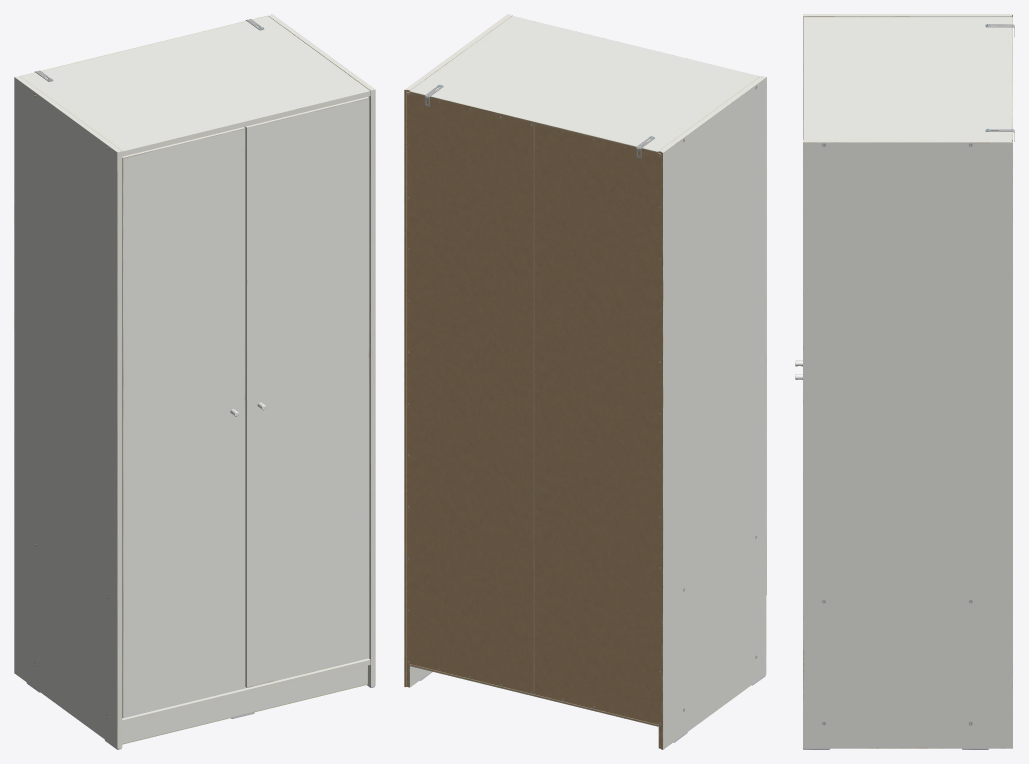
File: wardrobe_kleppstad_80437234.glb
3 renders of one model, left to right at view 1: azimuth 30°, elevation 25°; view 2: azimuth 150°, elevation 25°; view 3: azimuth 270°, elevation 25°, orthographic.
Parts seen in each view (by area): view 1: 80437234-KLEPPSTAD001; view 2: 80437234-KLEPPSTAD001; view 3: 80437234-KLEPPSTAD001.
Boxes of the visible parts, x1,y1,x2,y2 form: 80437234-KLEPPSTAD001: (14, 14, 375, 749); 80437234-KLEPPSTAD001: (404, 14, 766, 749); 80437234-KLEPPSTAD001: (795, 14, 1014, 749).
Size of the model in its own units: 0.795 by 1.76 by 0.5751.
1 material, 1 textured.
